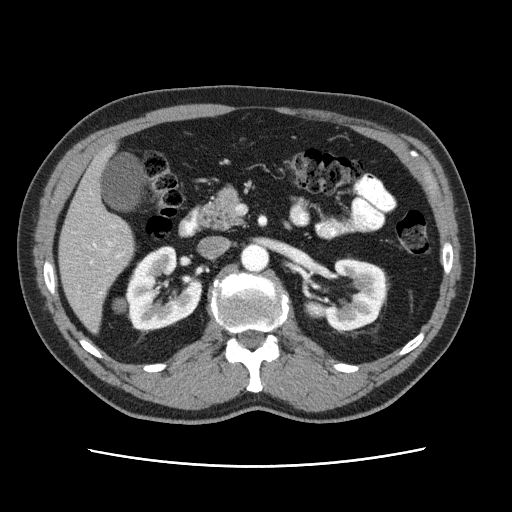Lesion: (109, 294, 130, 320)
